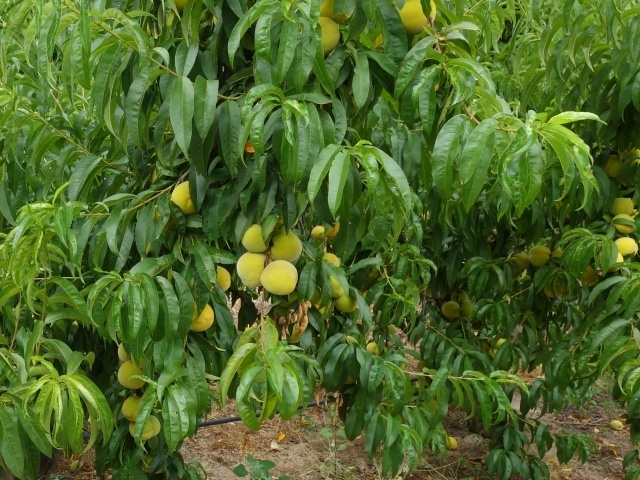peach: (391, 1, 442, 39), (230, 248, 273, 288), (309, 9, 345, 56), (261, 256, 301, 298), (167, 174, 203, 217), (237, 219, 274, 258), (269, 226, 306, 265), (112, 353, 148, 390), (187, 299, 219, 333), (207, 259, 236, 293), (118, 392, 150, 422), (125, 414, 157, 443), (111, 338, 137, 372), (609, 209, 638, 239), (327, 271, 355, 302), (610, 192, 639, 221), (527, 240, 553, 270), (599, 149, 626, 177), (334, 286, 359, 316), (613, 231, 639, 259), (602, 247, 626, 275), (439, 295, 463, 321), (317, 249, 341, 273)
